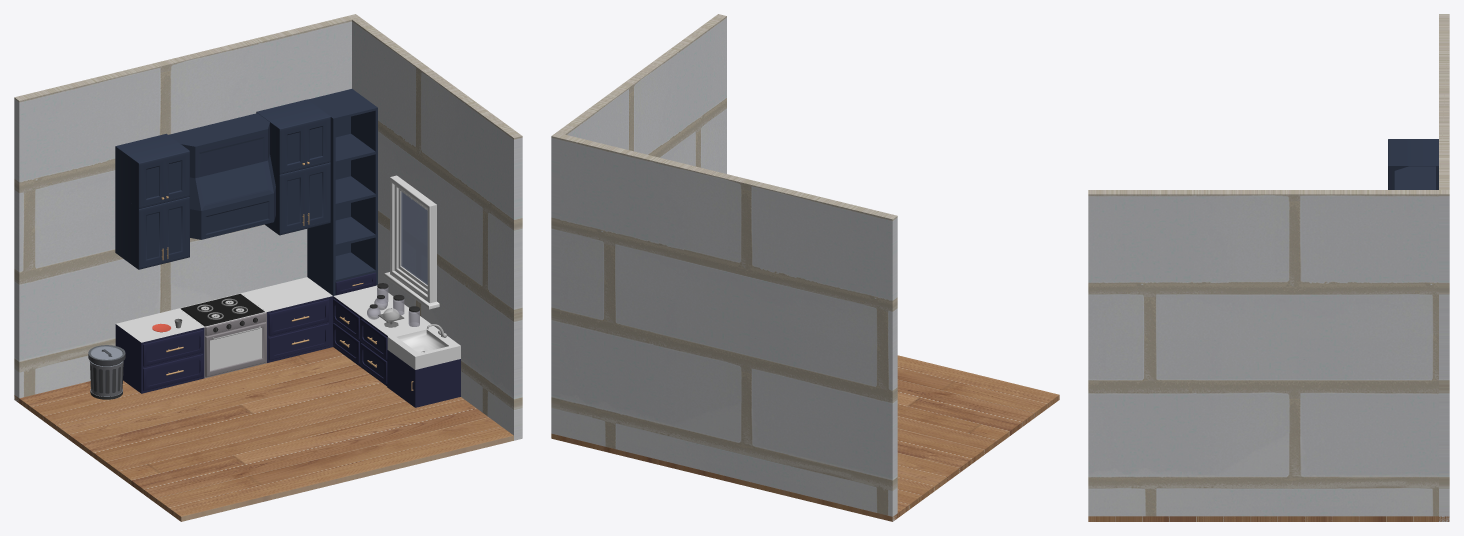
Rendered from NewKitchen_01.fbx.
The picture shows the model from 3 angles, left to right: view 1: azimuth 30°, elevation 25°; view 2: azimuth 150°, elevation 25°; view 3: azimuth 270°, elevation 25°; orthographic projection. The views are drawn at different scales.
Parts seen in each view (by area): view 1: Room, Shelf, Chimney, WallMirror, Basin, DrawerBase_01, CupboardBase_02, OvenDoor, DrawerBase_03, CupboardBase_04, DrawerBase_02, CupboardBase_01 (+23 smaller); view 2: Room; view 3: Room, CupboardBase_02, Chimney.
Part boxes in pixels (<box>): Room: <box>14,14,522,521</box>; Shelf: <box>307,89,377,295</box>; Chimney: <box>168,113,275,239</box>; WallMirror: <box>384,175,439,309</box>; Basin: <box>387,326,460,407</box>; DrawerBase_01: <box>115,308,204,393</box>; CupboardBase_02: <box>115,133,189,209</box>; OvenDoor: <box>205,322,266,376</box>; DrawerBase_03: <box>241,277,333,362</box>; CupboardBase_04: <box>256,99,330,174</box>; DrawerBase_02: <box>179,293,266,378</box>; CupboardBase_01: <box>115,192,189,269</box>; Room: <box>551,14,1059,521</box>; Room: <box>1088,14,1449,521</box>; CupboardBase_02: <box>1388,139,1438,189</box>; Chimney: <box>1394,166,1435,189</box>.
Size of the model in its own units: 11.8 by 9.99 by 9.99.
29 materials, 5 textured.
